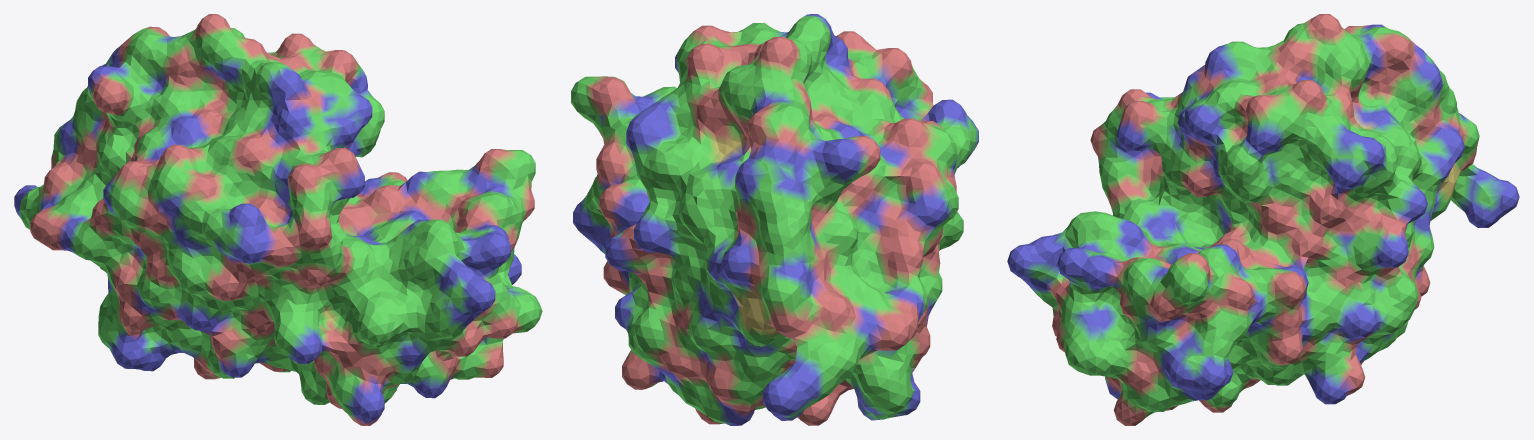
The model's file is 1lyz__surface__default.glb.
3 renders of one model, left to right at view 1: azimuth 30°, elevation 25°; view 2: azimuth 150°, elevation 25°; view 3: azimuth 270°, elevation 25°, orthographic. The views are drawn at different scales.
Parts seen in each view (by area): view 1: Renderer Node; view 2: Renderer Node; view 3: Renderer Node.
Boxes of the visible parts, bbox=[...] form: Renderer Node: bbox=[14, 14, 542, 425]; Renderer Node: bbox=[571, 14, 978, 425]; Renderer Node: bbox=[1007, 14, 1519, 425].
Size of the model in its own units: 41.85 by 35.85 by 47.23.
